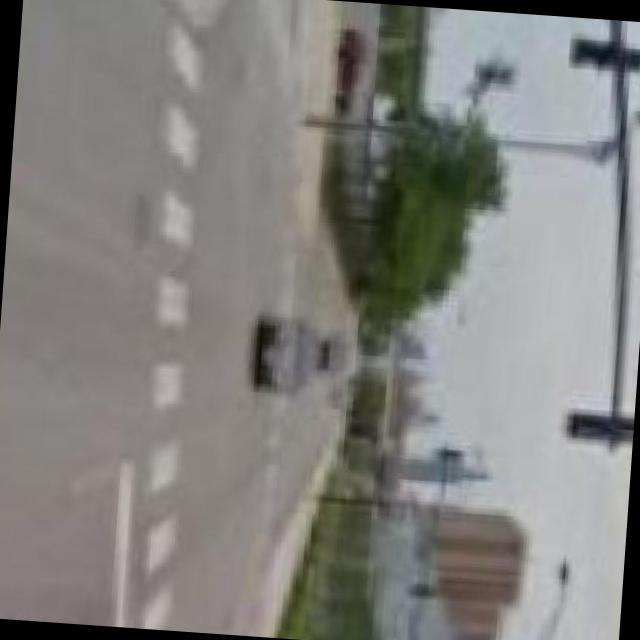zebra: (127, 8, 228, 630)
